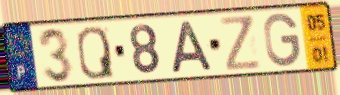3: (36, 25, 75, 85)
8: (128, 23, 163, 76)
A: (168, 19, 216, 75)
G: (262, 11, 302, 69)
Q: (75, 24, 117, 81)
Z: (218, 13, 264, 73)
